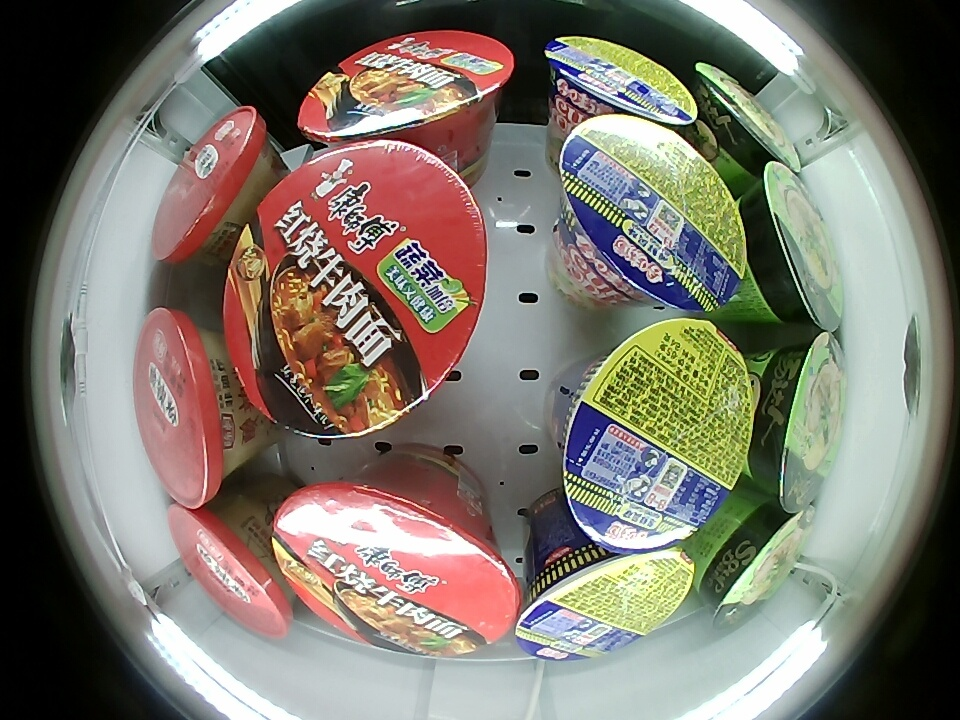heweidao: (562, 319, 754, 553), (559, 115, 750, 314), (515, 539, 695, 661), (546, 36, 698, 129)
hongshaoniurou: (223, 139, 487, 441), (271, 481, 520, 659), (296, 29, 514, 140)
suanlafen: (136, 308, 237, 507), (153, 106, 270, 263), (168, 497, 291, 636)
tangdaren: (740, 159, 844, 332), (754, 332, 848, 512), (698, 499, 815, 633), (692, 62, 802, 182)
